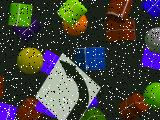Left: (35, 53, 101, 120)
